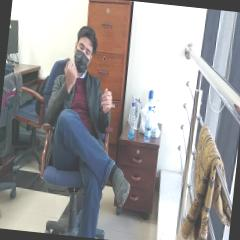not-gloved: (63, 58, 78, 91), (100, 87, 114, 114)
